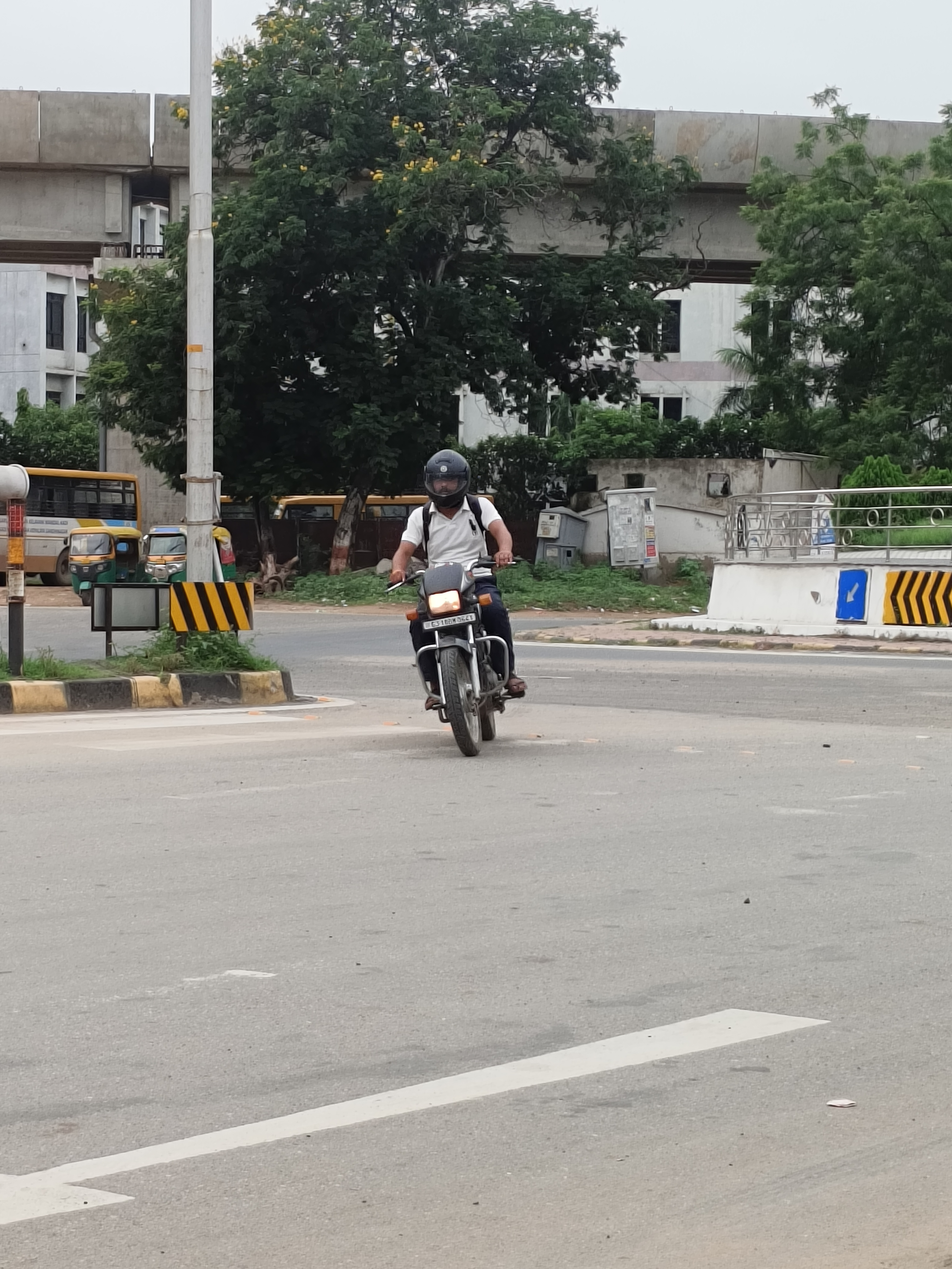BikeWithRider: (362, 427, 574, 774)
Helmet: (406, 441, 486, 501)
